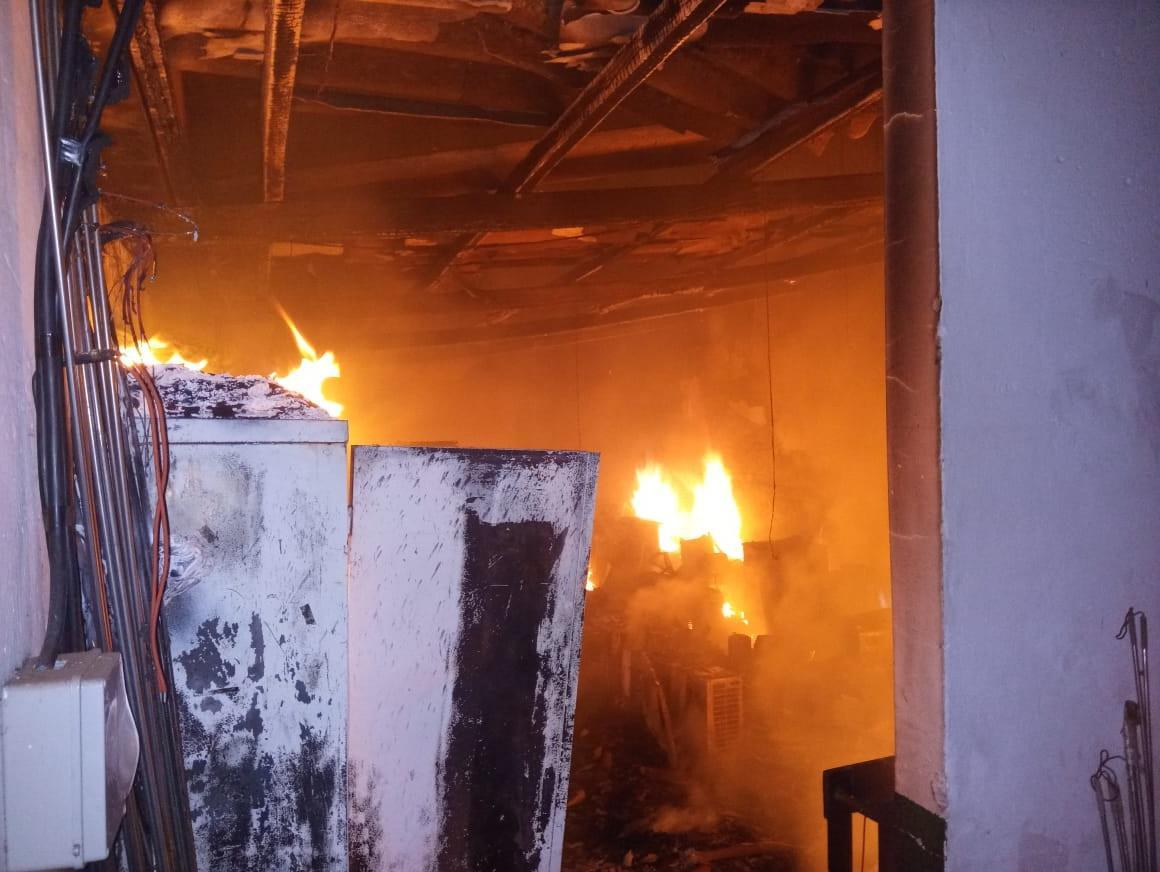Fire: (627, 446, 745, 559), (259, 302, 350, 421), (118, 335, 209, 373), (722, 600, 749, 625), (589, 566, 599, 594)
